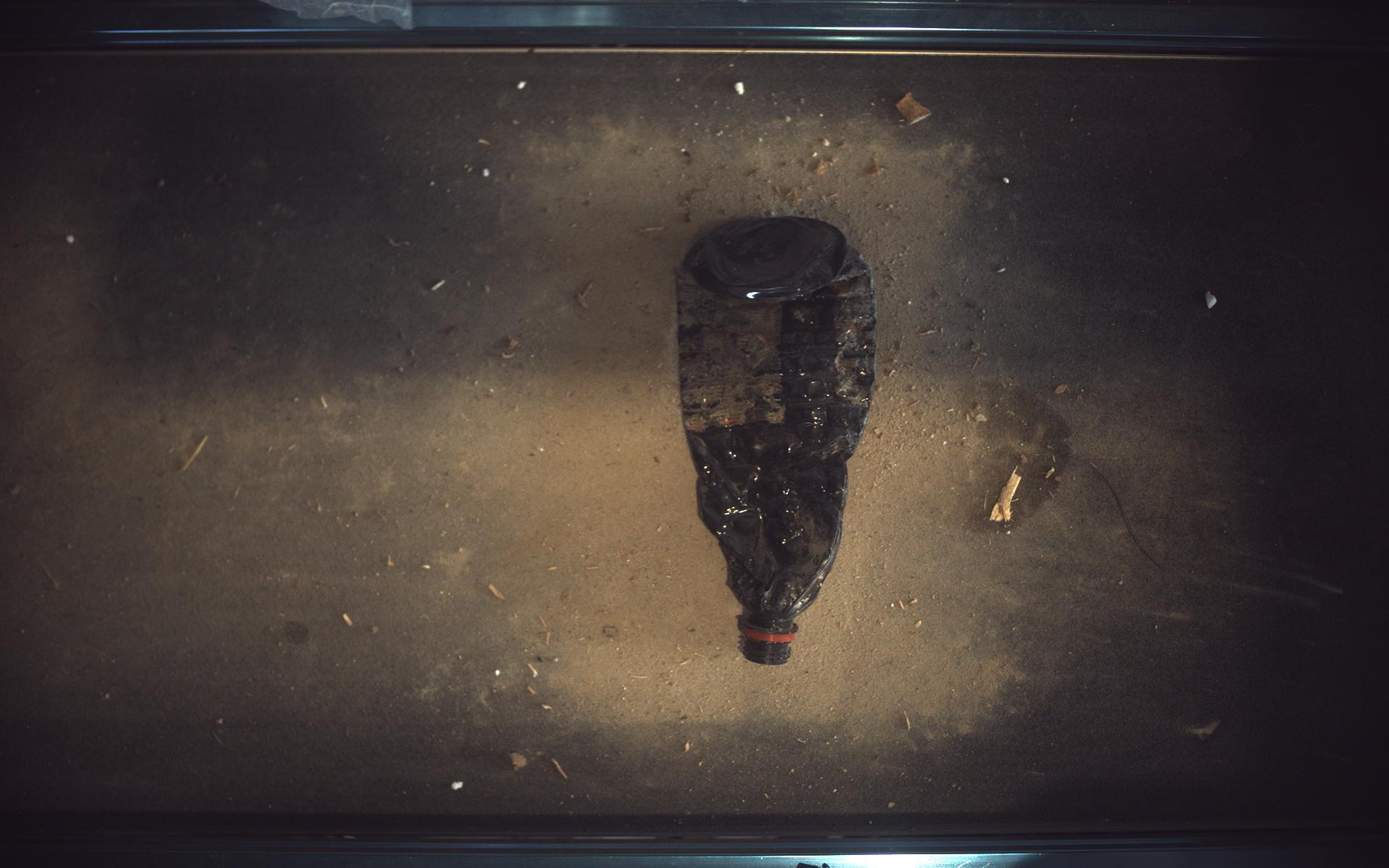general_w: (678, 216, 877, 665)
